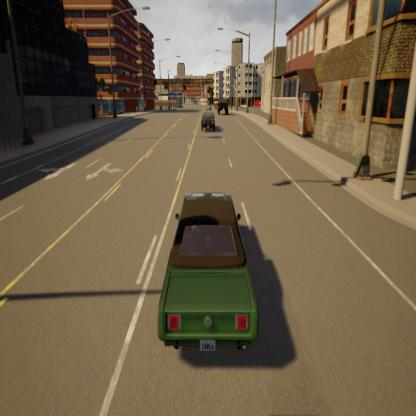Cars: (152, 187, 264, 369), (197, 104, 220, 135), (216, 96, 229, 118)
